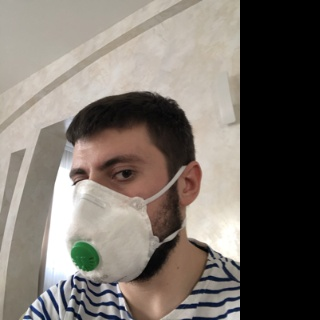with_mask: (64, 144, 169, 284)
